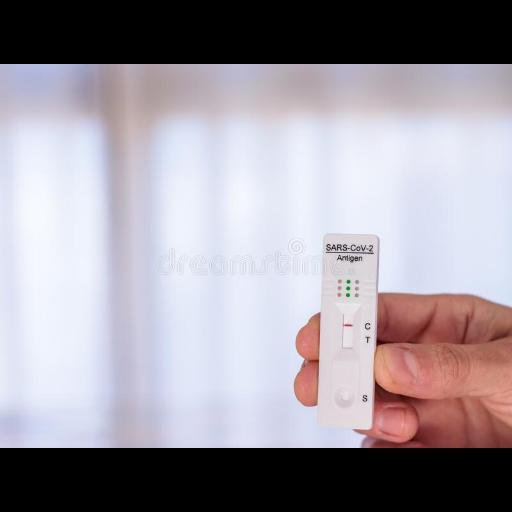Neg: (322, 233, 376, 427)
